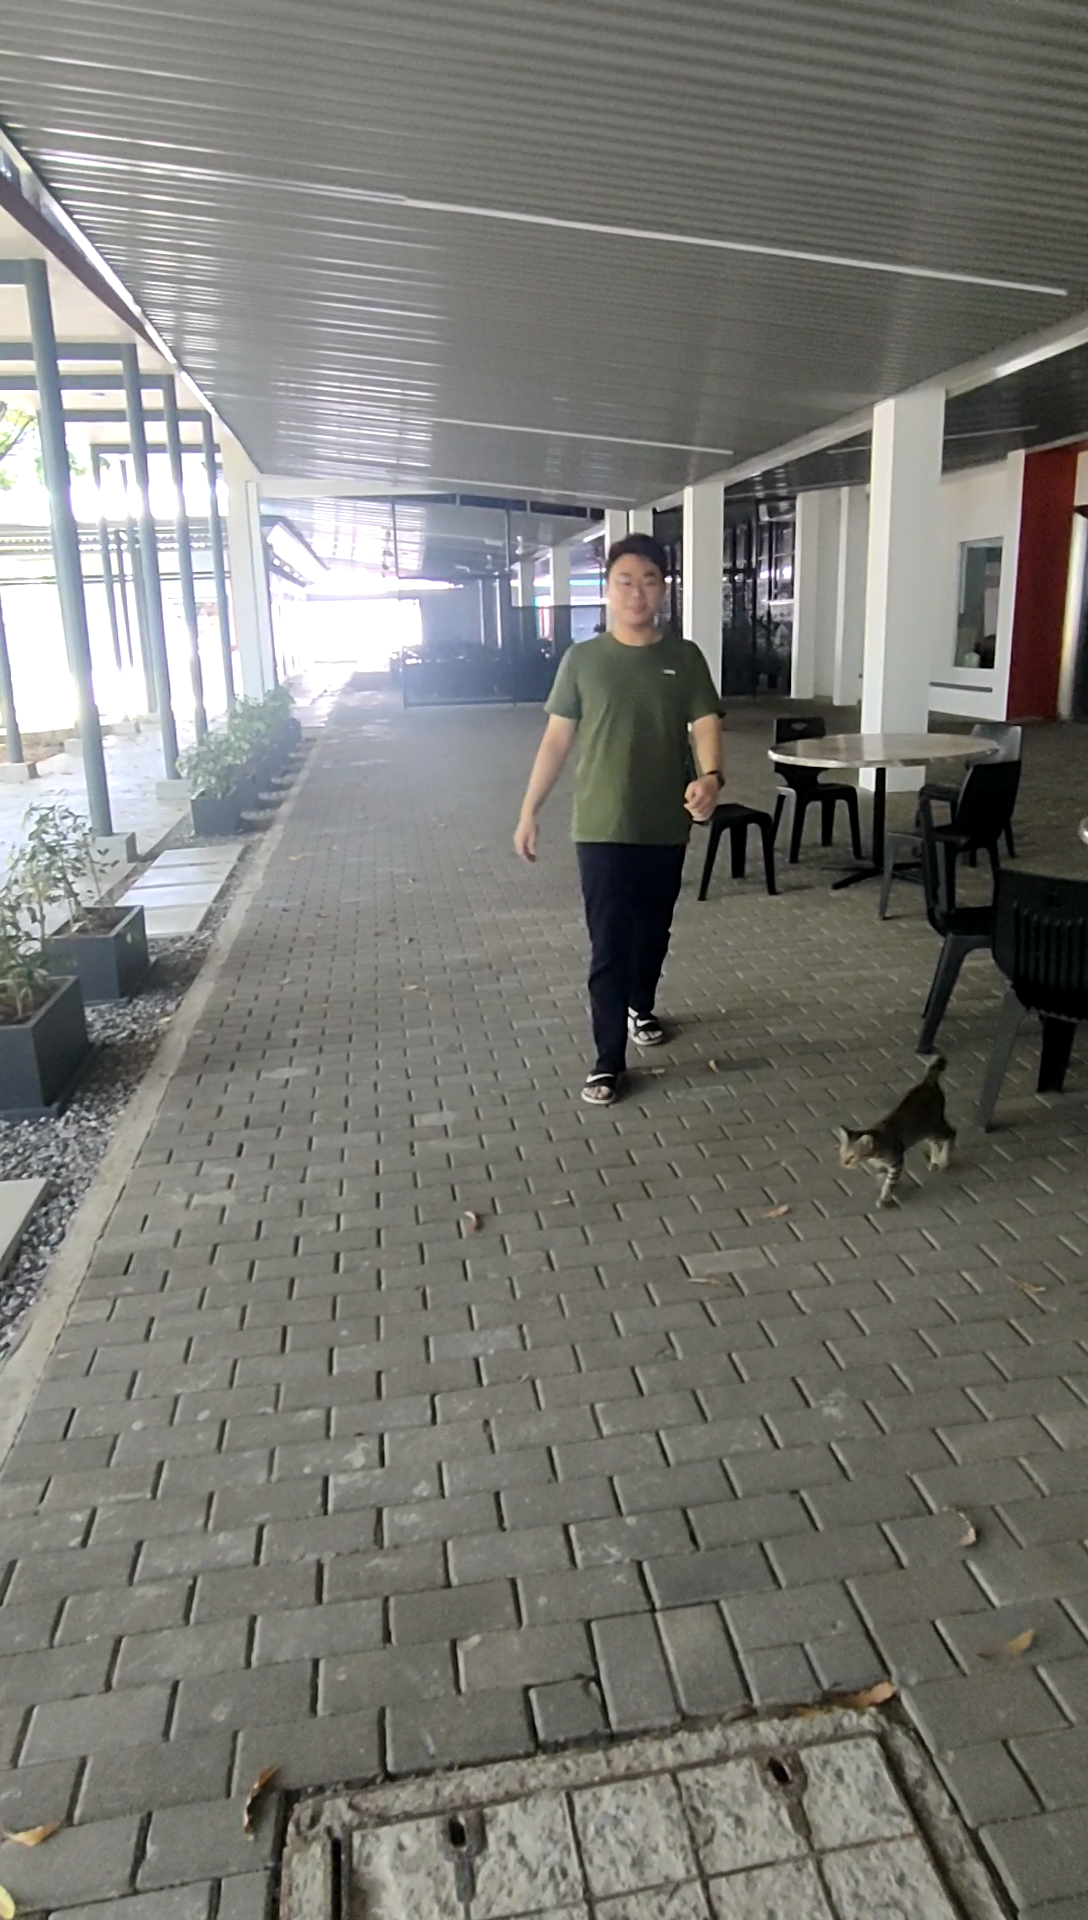walk: (513, 531, 727, 1106)
